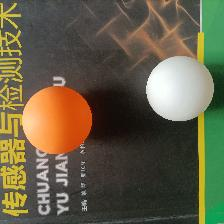WhiteBall: (145, 55, 213, 121)
YellowBall: (22, 85, 92, 154)
